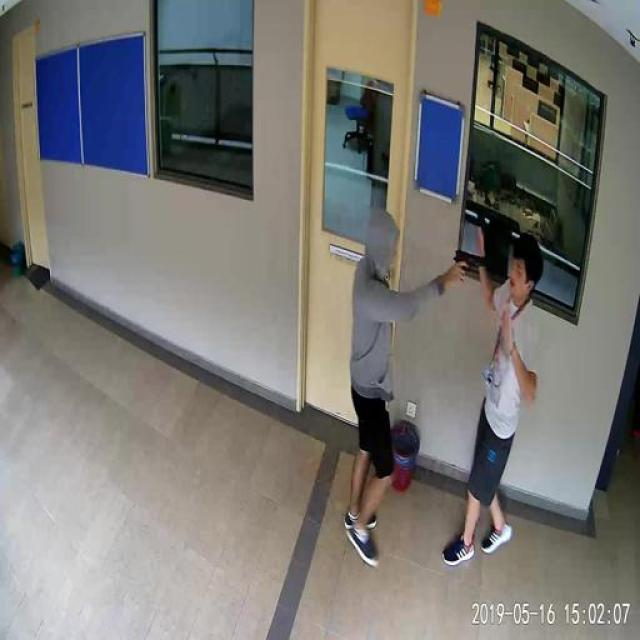Gun: (440, 232, 497, 289)
